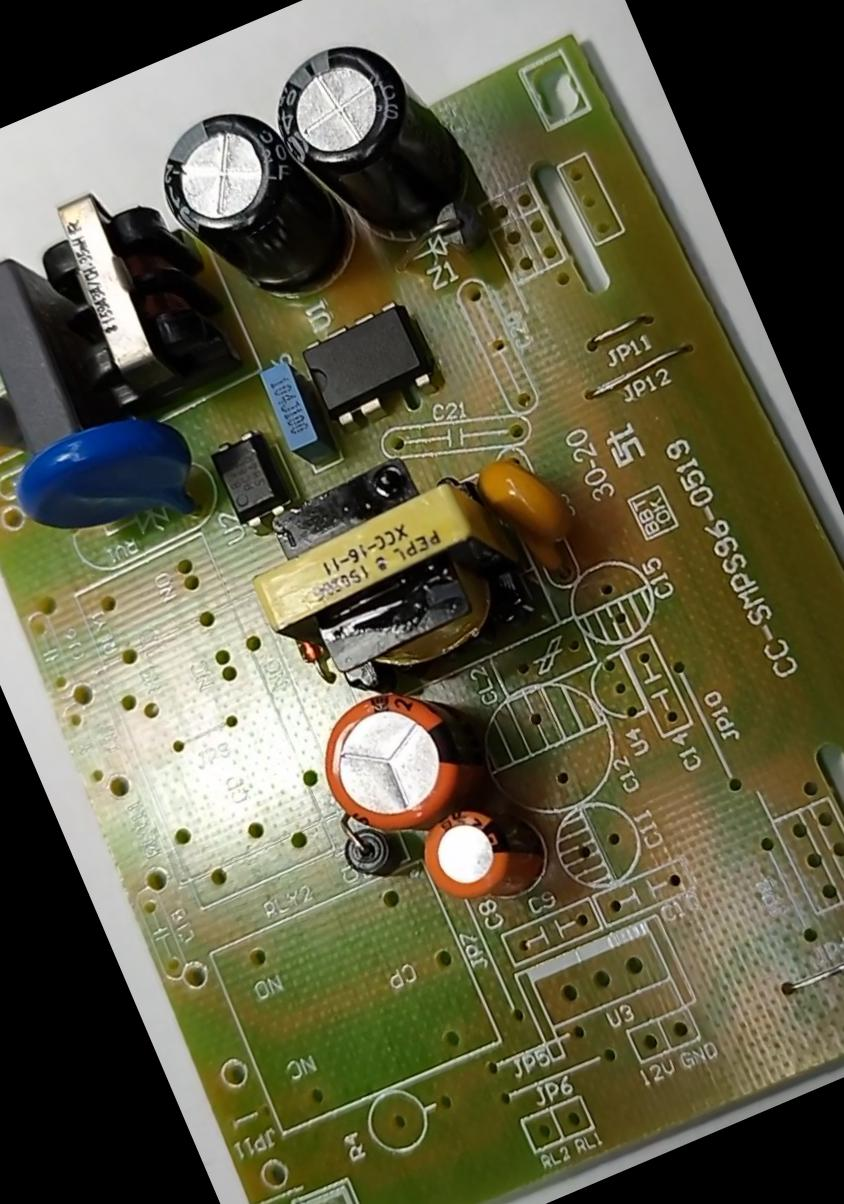Cap1: (298, 660, 500, 853)
Cap2: (408, 786, 554, 924)
Cap3: (136, 88, 339, 323)
Cap4: (252, 12, 479, 263)
MOSFET: (291, 296, 440, 434)
Mov: (0, 392, 213, 575)
Resistor: (0, 368, 29, 481)
Transformer: (223, 435, 531, 728), (14, 167, 224, 412)
